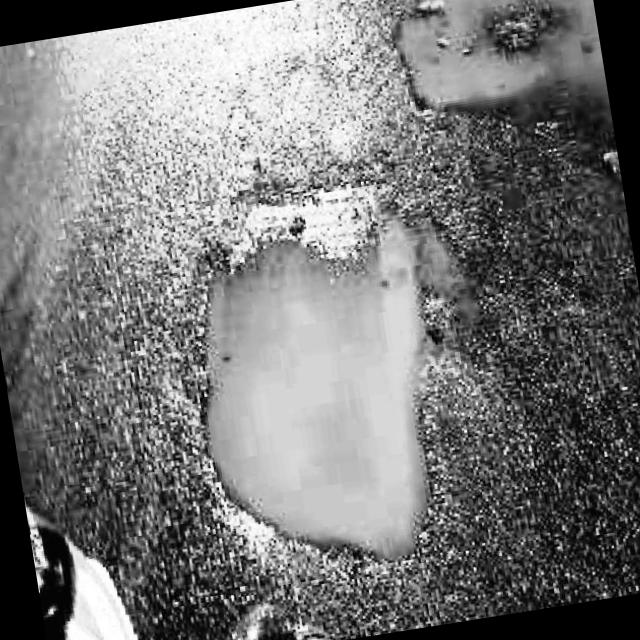Pothole: (135, 133, 542, 607), (368, 0, 610, 141)
